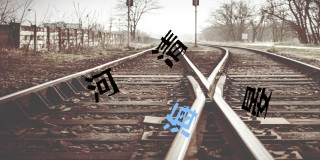宴: (241, 85, 273, 120)
河: (85, 67, 120, 103)
海: (162, 102, 198, 138)
清: (153, 29, 188, 68)
